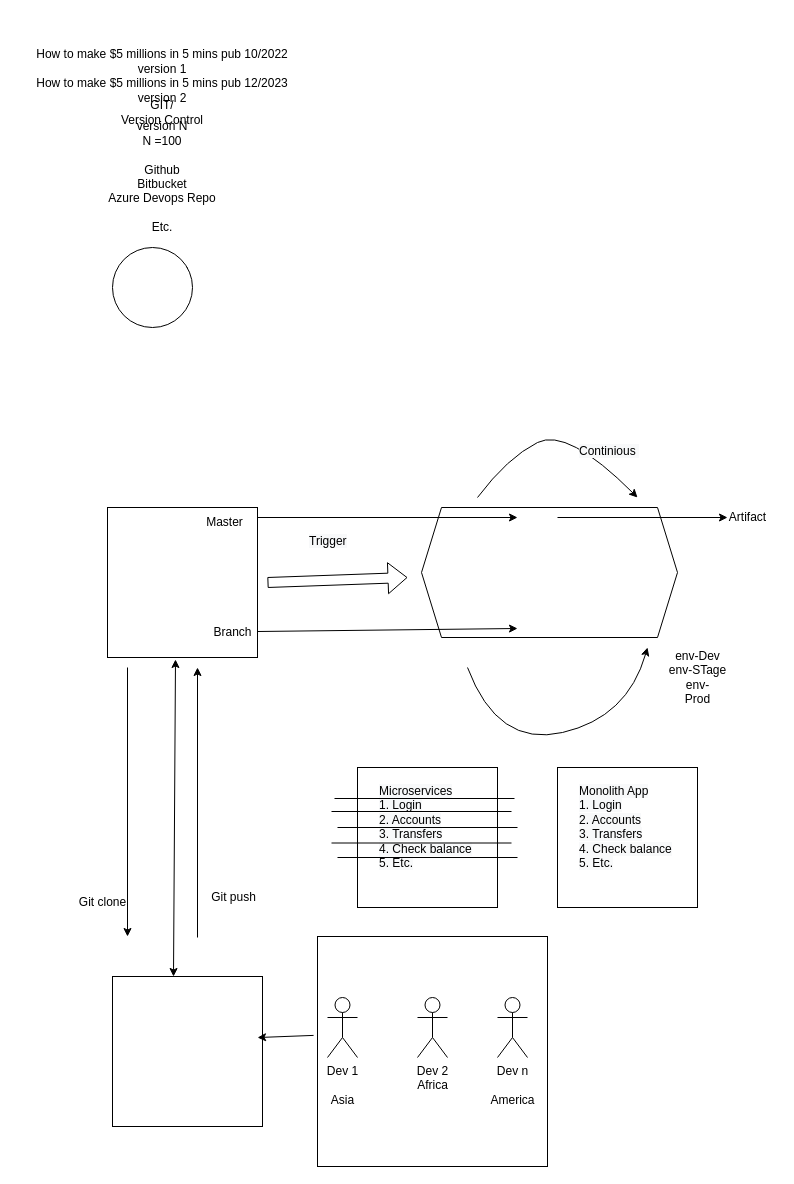
This 794x1184 diagram has some shape labels left out. Here are the shapes that lost their labels. From the top down, the box of each, then its label:
(106, 506, 258, 658): Remote/ Repository
(420, 506, 678, 638): Jenkins How to make $5 millions in 5 mins App .jar .ear .war
(112, 976, 262, 1126): Local/Repository
